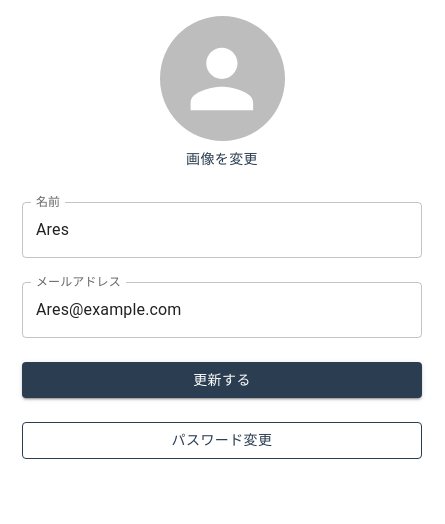
Test: 失敗する場合 › 名前が空白の場合、エラーメッセージが表示される
Step 1. Clear the field labelled "名前" → [222, 230], box [22,202,422,258]
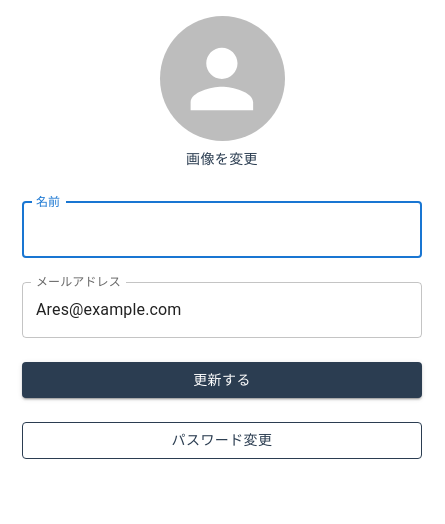
Step 2. Click the button "更新する" → [222, 380], box [22,362,422,398]
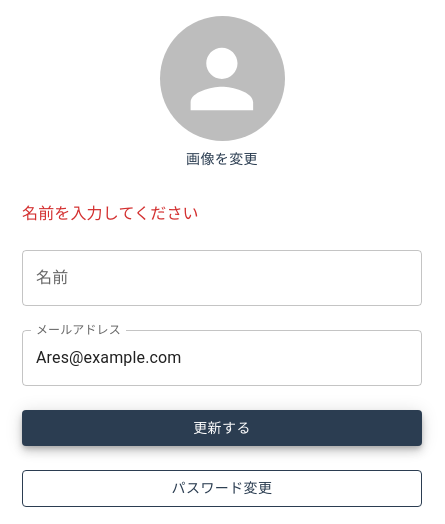
Check: the text "名前を入力してください" is shown, box [22,204,199,222]
